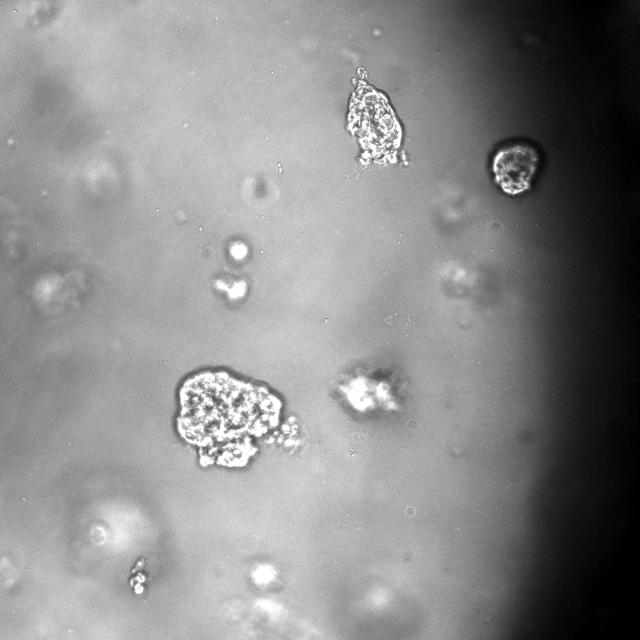organoid: (175, 367, 303, 468), (346, 67, 406, 167), (331, 363, 405, 418), (488, 137, 544, 197), (211, 271, 249, 306), (224, 235, 252, 266), (130, 557, 148, 595)
